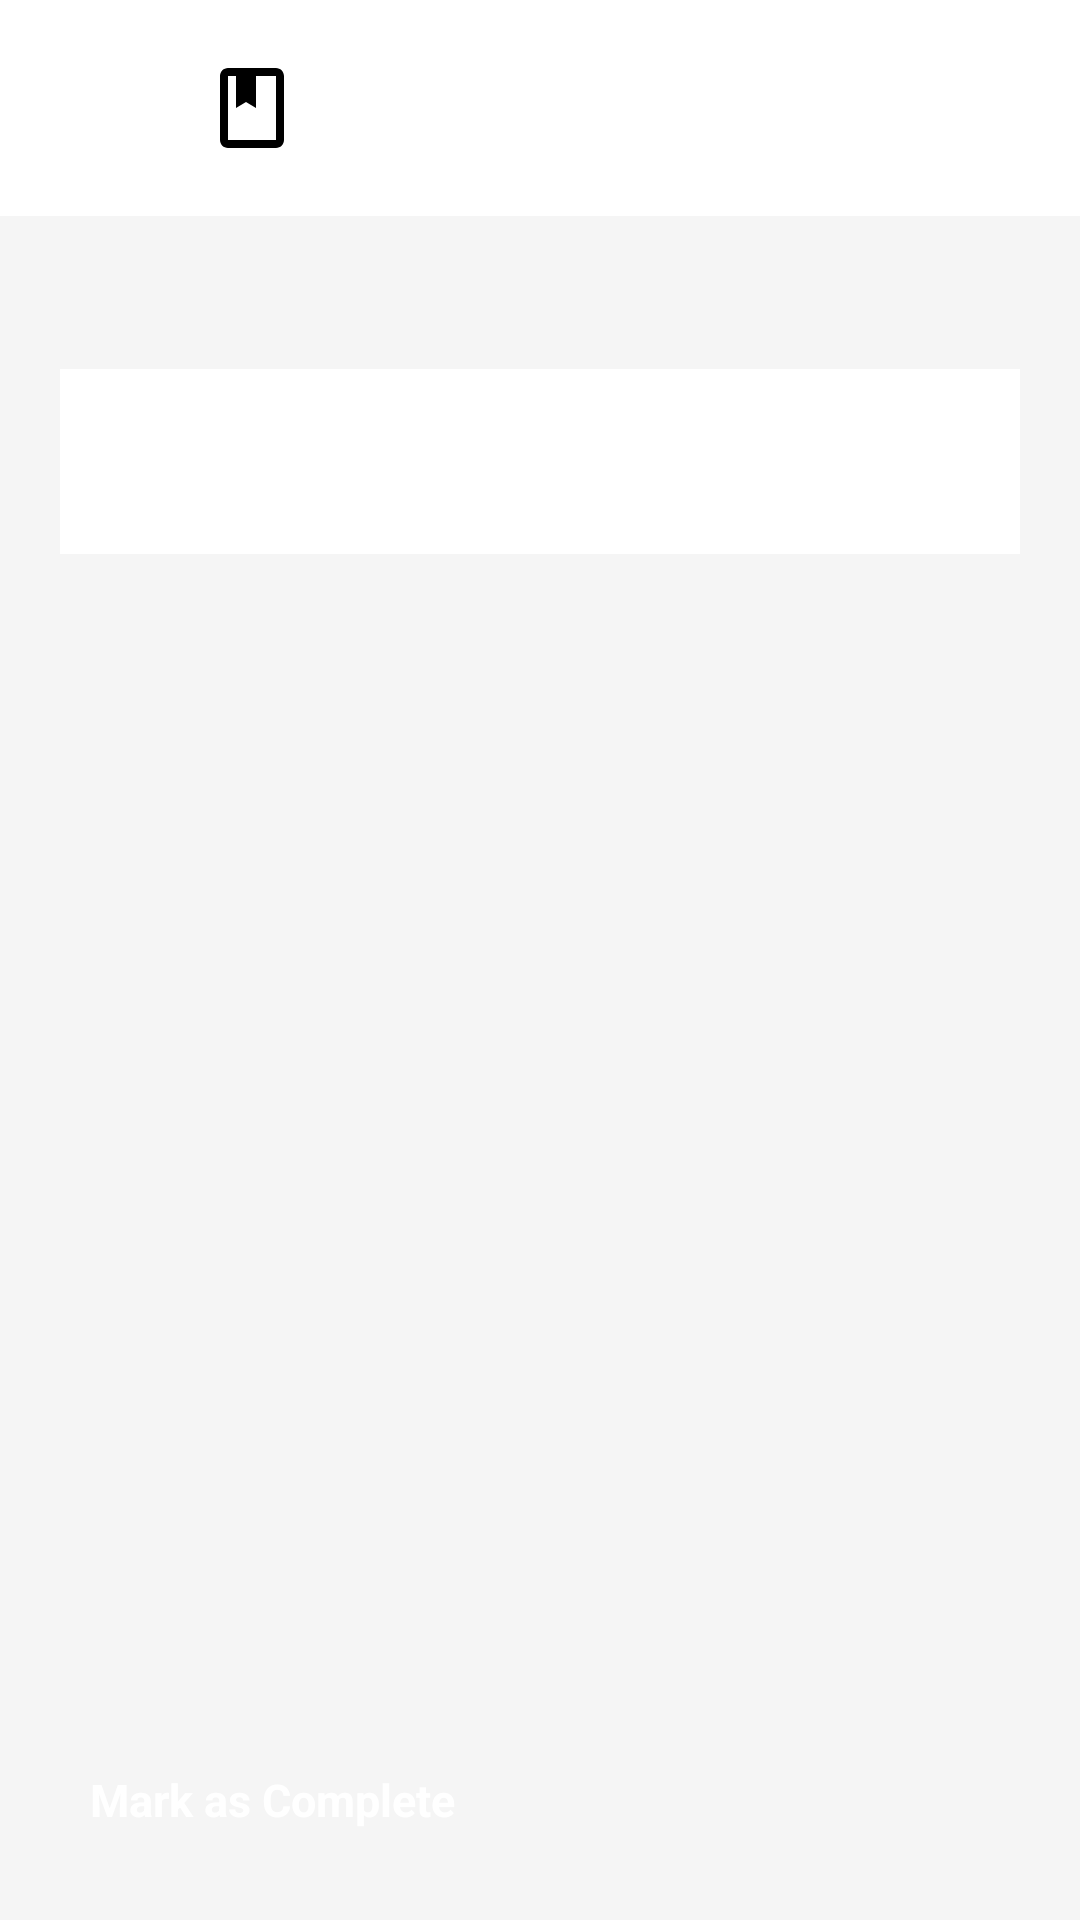

Icon bounding boxes for this 1080 × 1920 phone screenshot, format (x1, y1, x2, y2):
learning: (220, 68, 284, 148)
